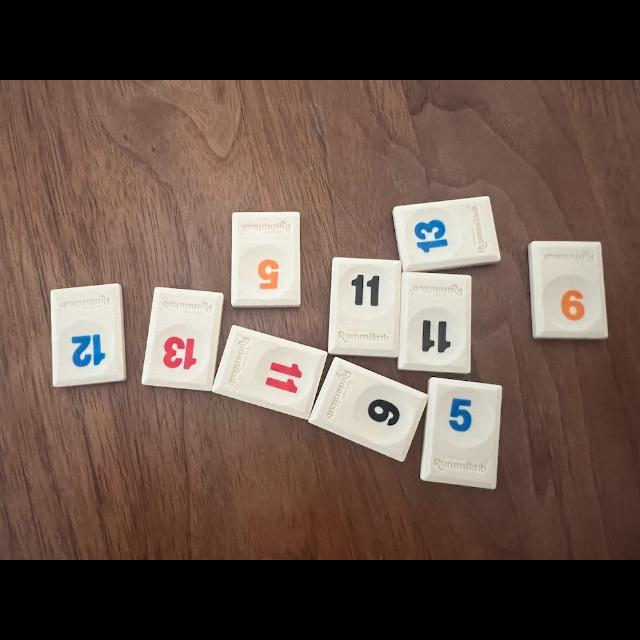black_11: (398, 272, 471, 374), (329, 258, 401, 358)
black_6: (309, 358, 428, 461)
blue_12: (51, 284, 126, 386)
blue_13: (392, 196, 500, 271)
blue_5: (420, 378, 501, 489)
orange_5: (231, 211, 300, 308)
orange_9: (529, 241, 609, 339)
red_11: (212, 325, 328, 420)
red_13: (141, 288, 224, 391)
